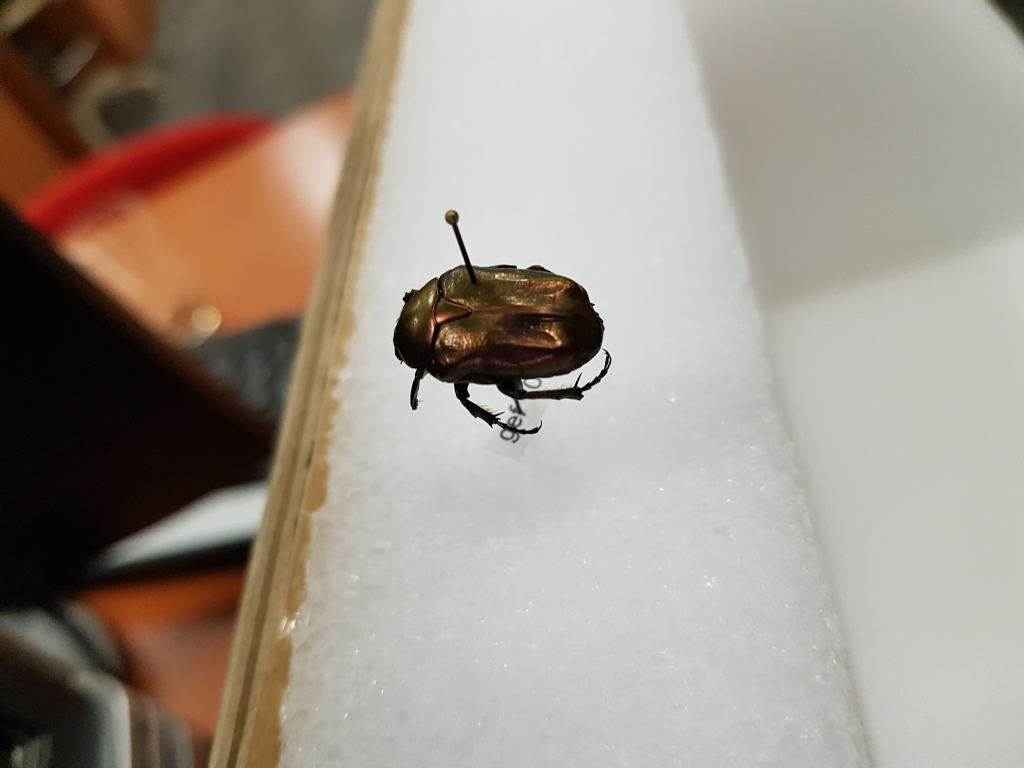Cetonia_aurata: (385, 257, 616, 439)
